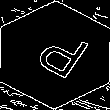P_SW: (22, 24, 88, 86)
